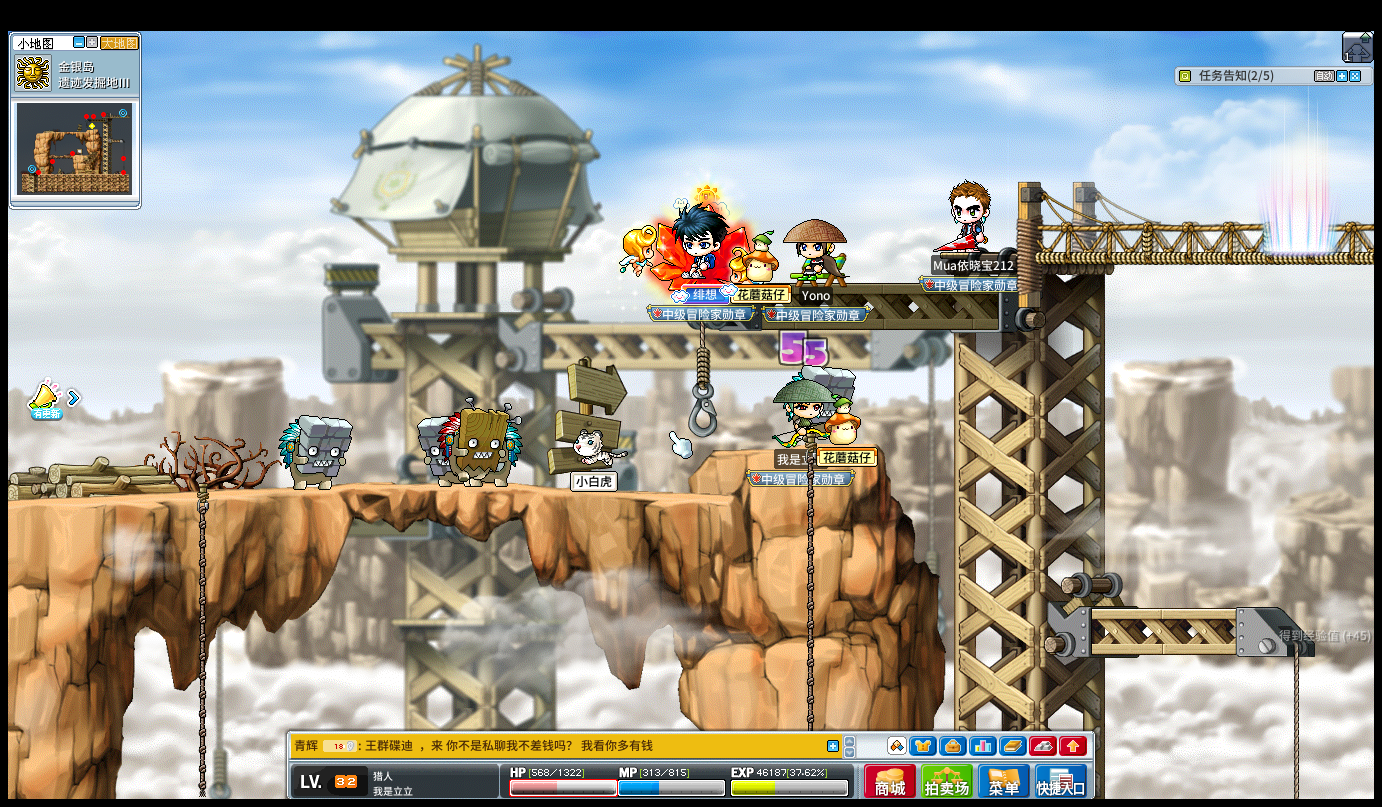floor: (5, 476, 756, 508), (22, 480, 768, 501), (1090, 605, 1287, 619)
monster: (431, 400, 523, 488), (277, 414, 353, 491)
rope: (193, 480, 207, 806), (802, 457, 817, 727), (1288, 650, 1303, 789)
